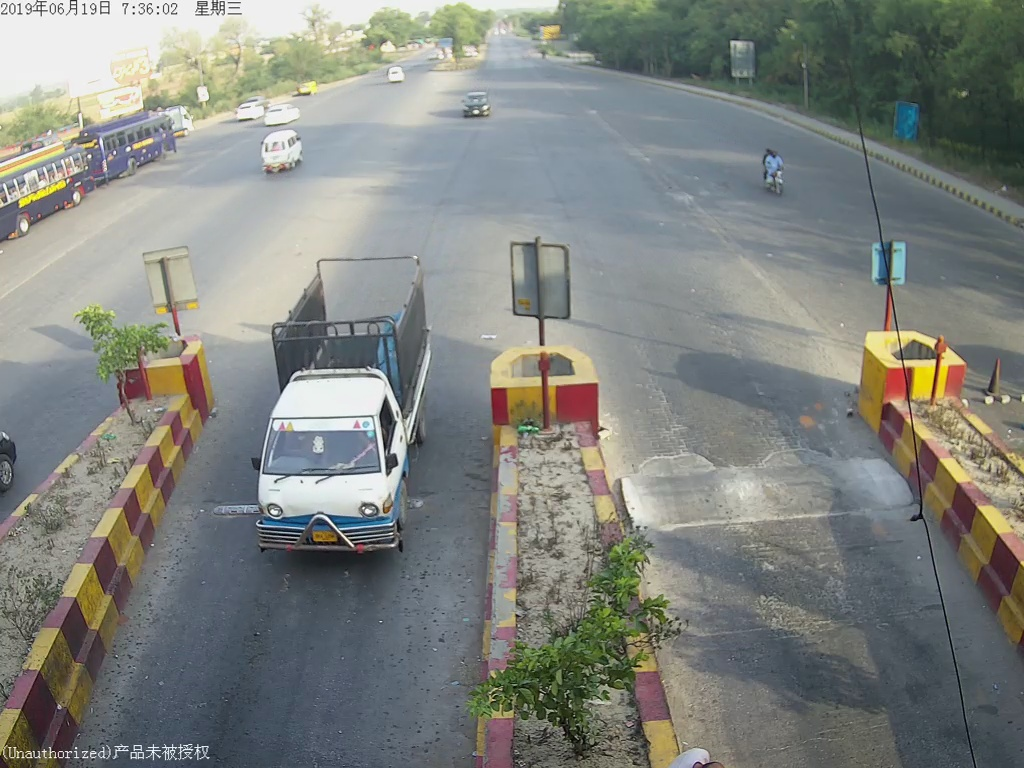Cat-2: (243, 259, 453, 571)
